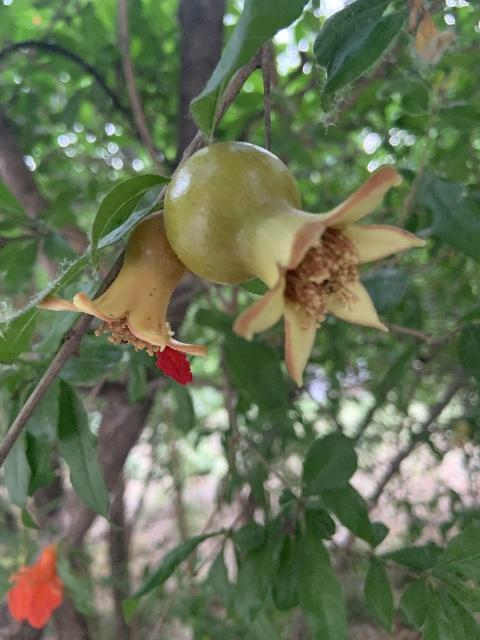early-fruit: (34, 211, 208, 385)
flower: (6, 543, 64, 630)
mid-growth: (163, 142, 425, 386)
